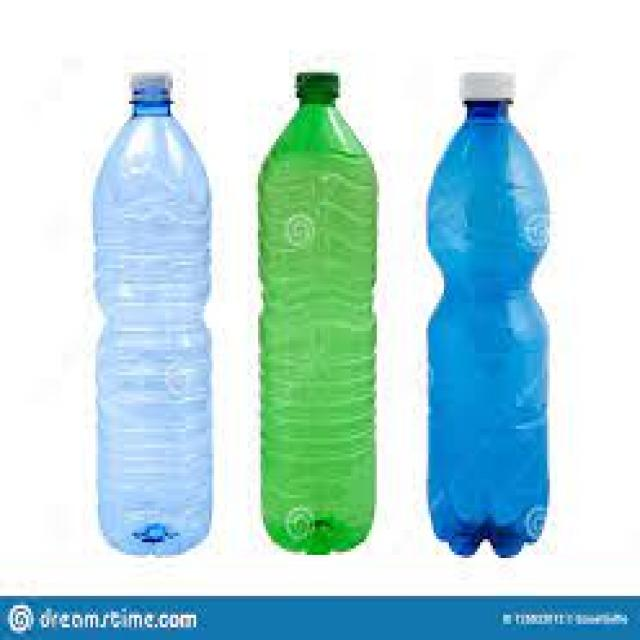Botella Plastica: (74, 59, 231, 565), (410, 63, 562, 570), (246, 57, 385, 574)
